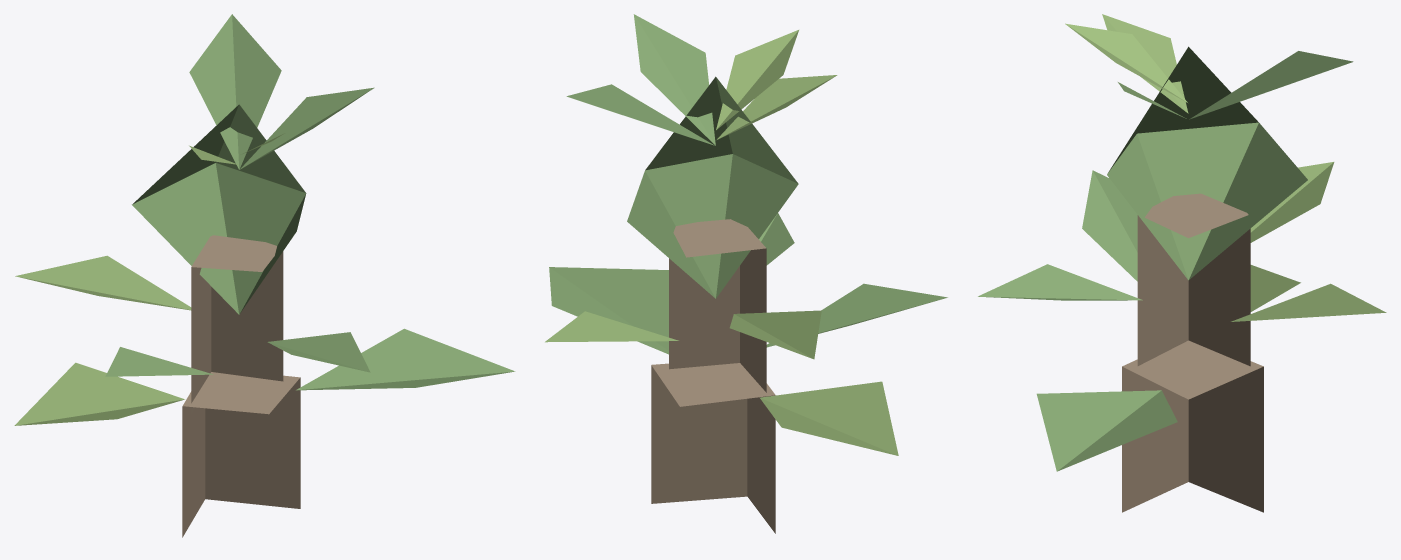
Rendered from cao.hanji@seedling__spring.glb.
3 renders of one model, left to right at view 1: azimuth 30°, elevation 25°; view 2: azimuth 150°, elevation 25°; view 3: azimuth 270°, elevation 25°, orthographic. The views are drawn at different scales.
Visible parts, largest first — view 1: cao.hanji@seedling__spring; view 2: cao.hanji@seedling__spring; view 3: cao.hanji@seedling__spring.
Part boxes in pixels (left/top/right/bottom): cao.hanji@seedling__spring: left=14, top=14, right=515, bottom=537; cao.hanji@seedling__spring: left=545, top=14, right=947, bottom=533; cao.hanji@seedling__spring: left=978, top=14, right=1386, bottom=512.
Size of the model in its own units: 0.1137 by 0.1146 by 0.0873.
